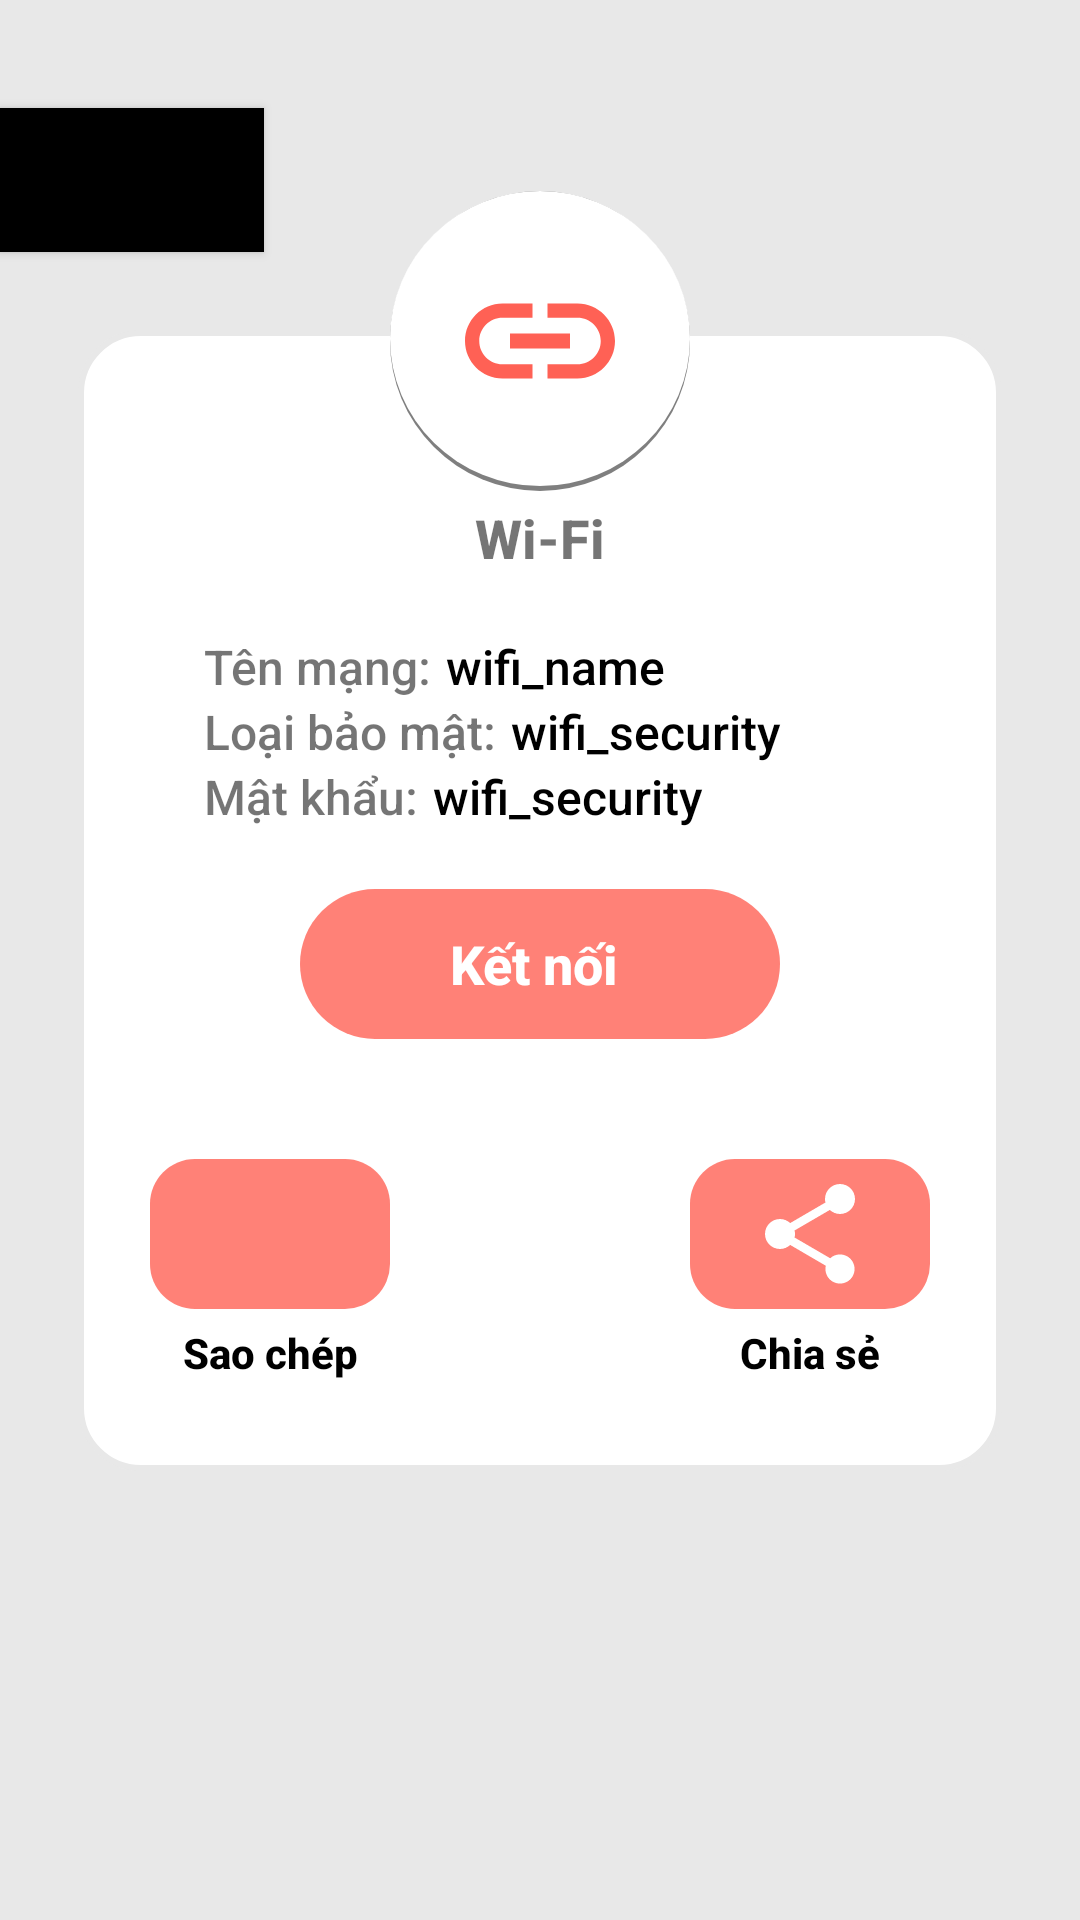

Icons on this 1080*1920 Android screen, each with the point to tap as [x,y]:
link: [540,341]
